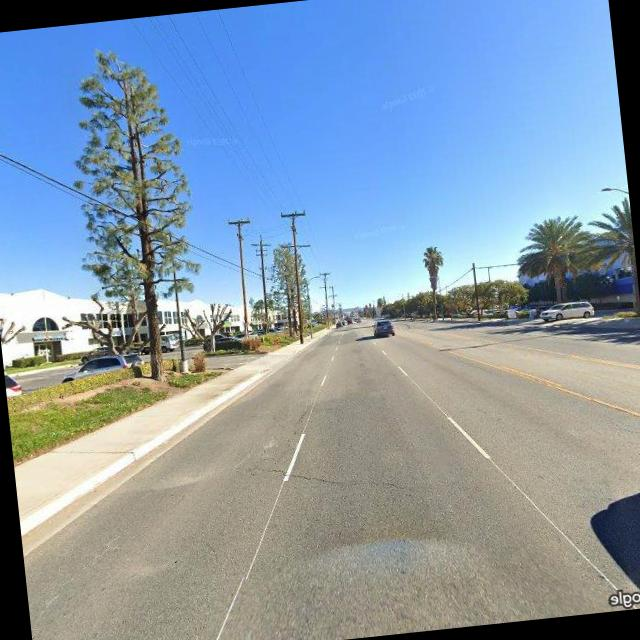crack: (247, 450, 422, 510)
